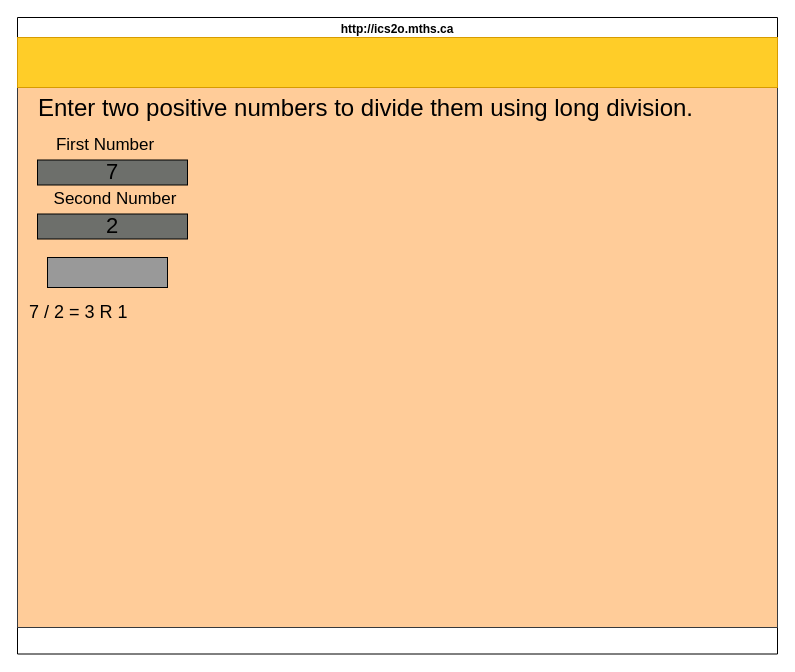
Image size: 795x672. Some labels were removed from this diagram. Here are the shapes that lost their labels. From the top down, the centre of each, then its label:
the point at 397,62: Long Division Calculator
the point at 107,272: Calculate
